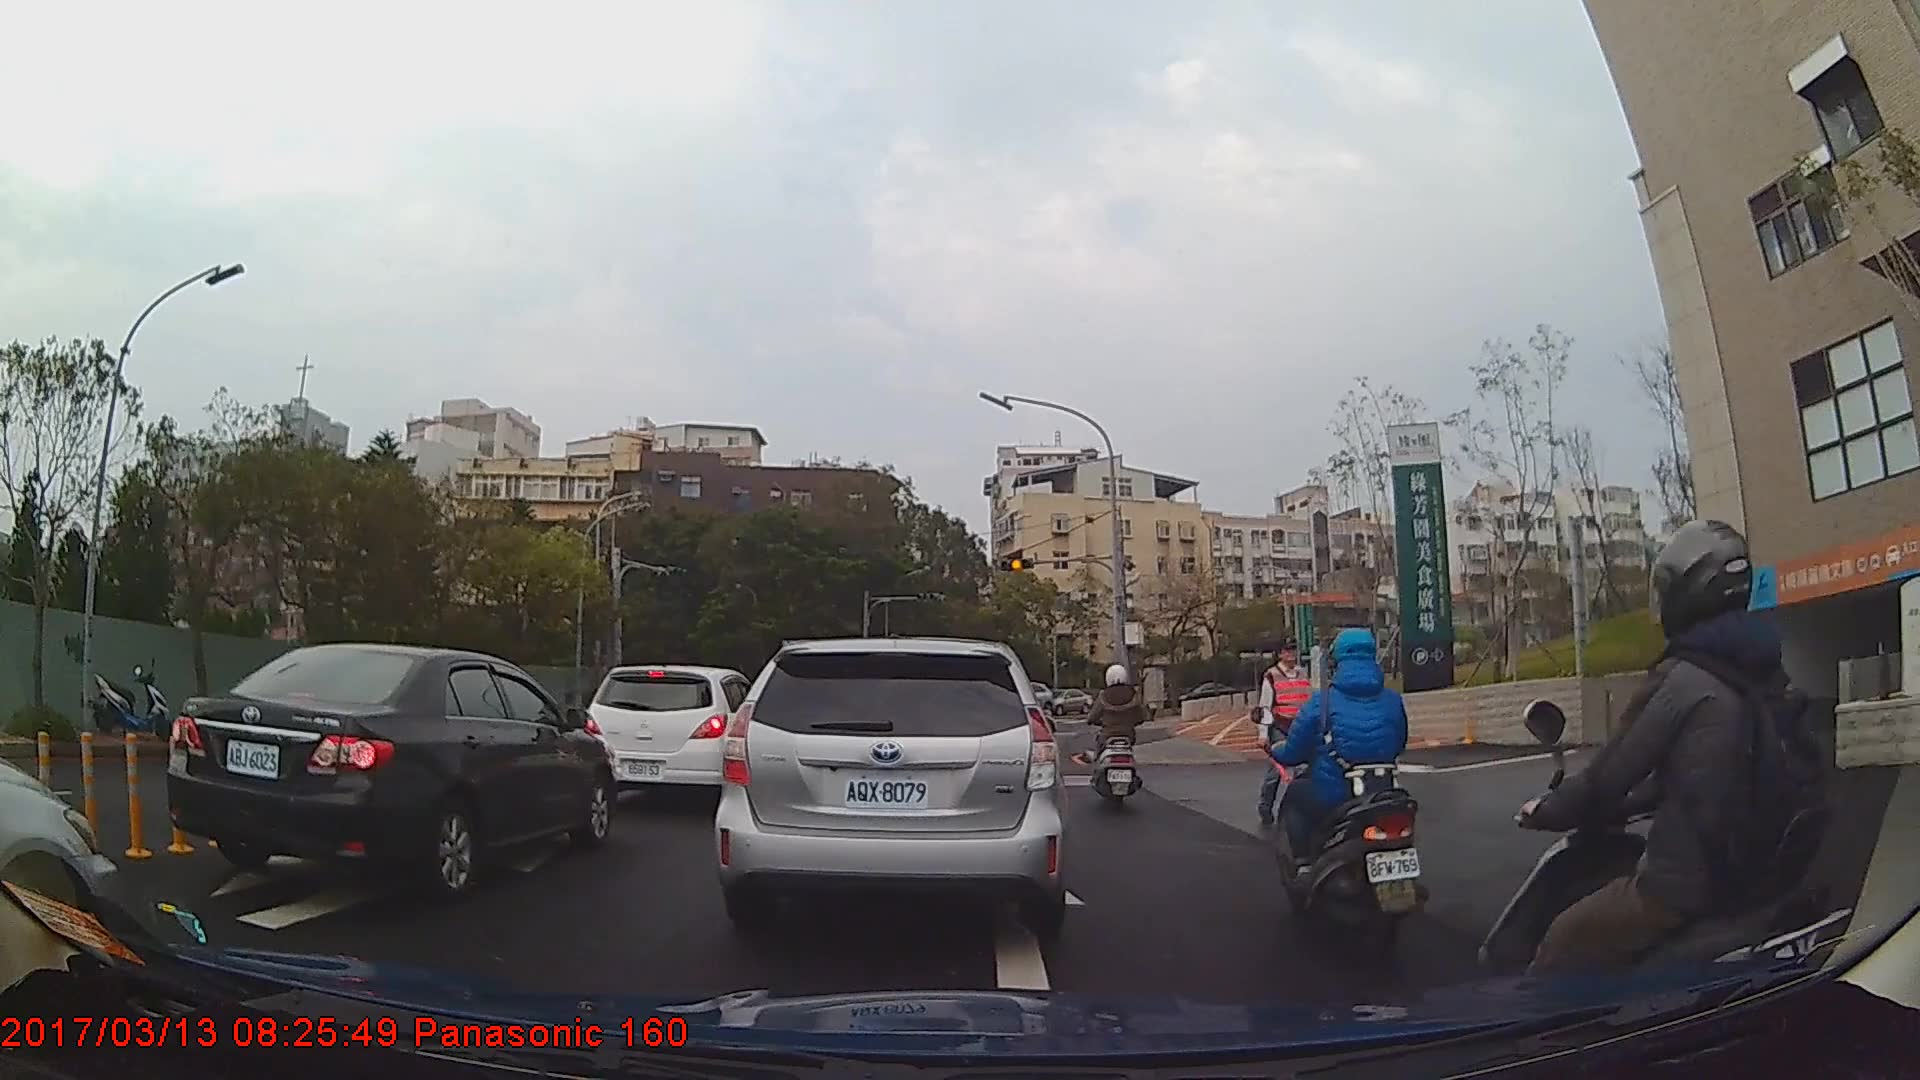pedestrian: (1253, 639, 1319, 828)
rider: (1470, 519, 1868, 1078), (1268, 624, 1429, 948), (1089, 667, 1151, 815)
vehicle: (165, 643, 618, 902), (714, 635, 1066, 937), (577, 664, 764, 811), (1171, 678, 1236, 711), (1052, 688, 1092, 717)
